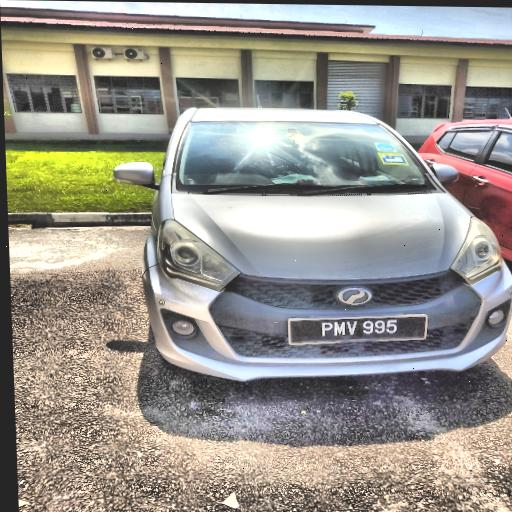license_plate: (287, 316, 424, 345)
